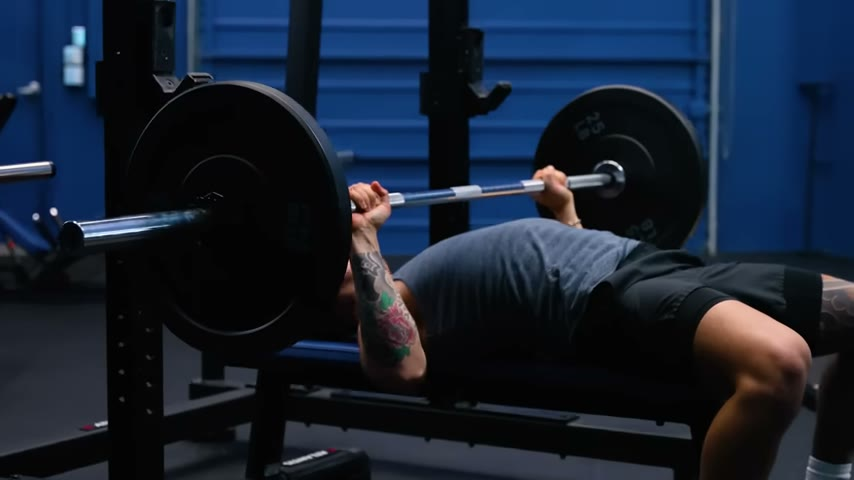barbell_plate_side: (80, 74, 206, 365)
